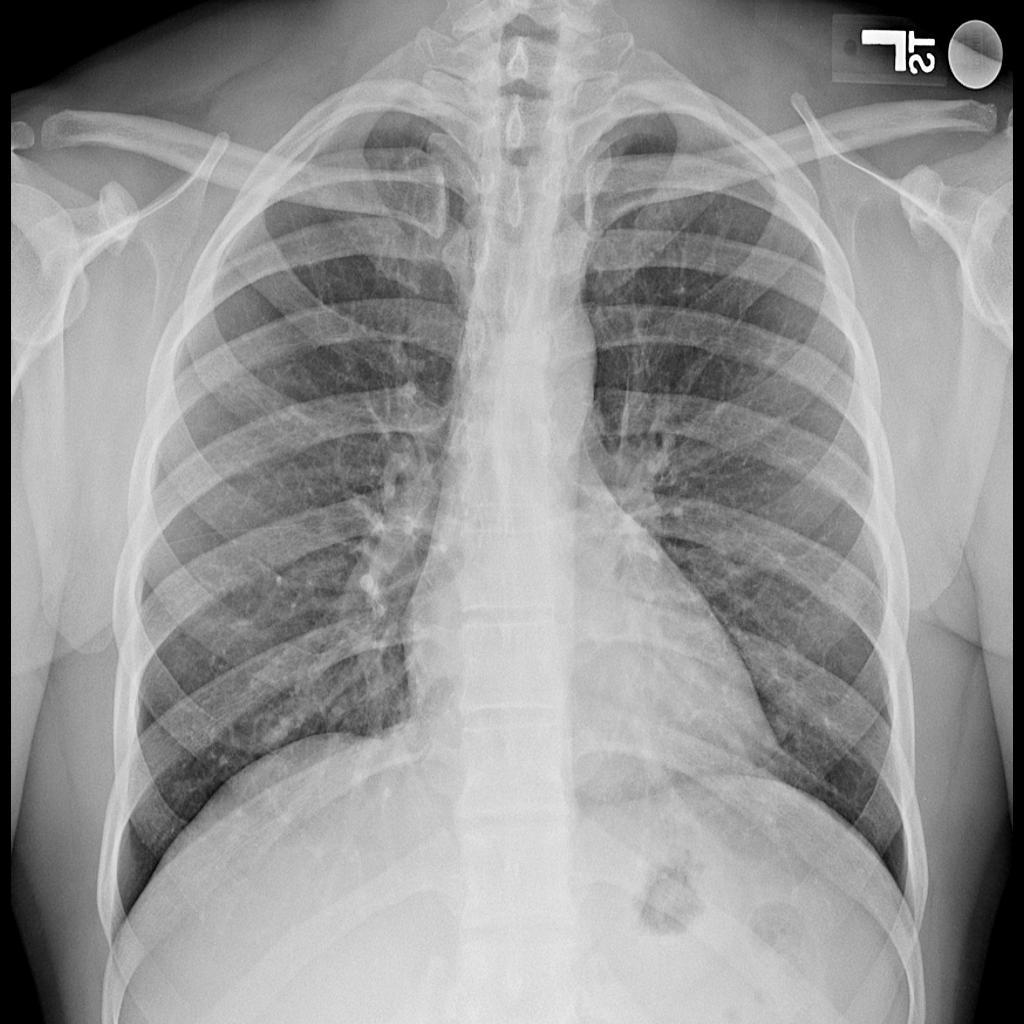Nodule: (166, 777, 202, 805)
